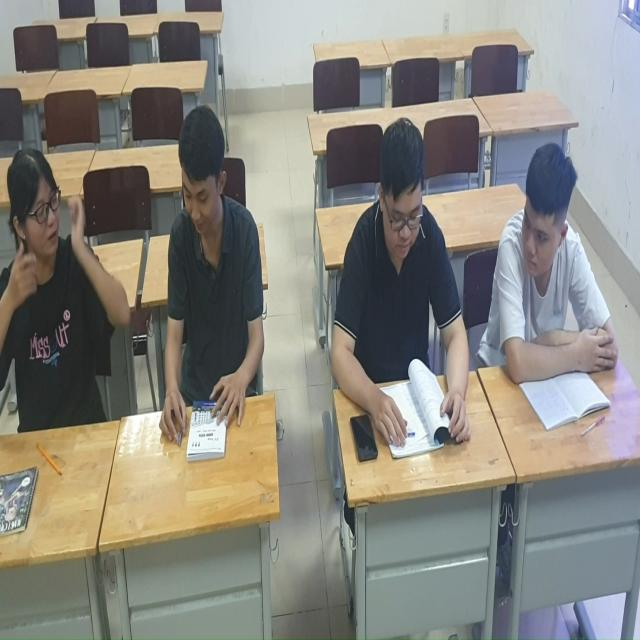raise_hand: (1, 149, 115, 429)
read: (325, 112, 490, 456), (155, 86, 283, 470), (497, 119, 613, 426)
